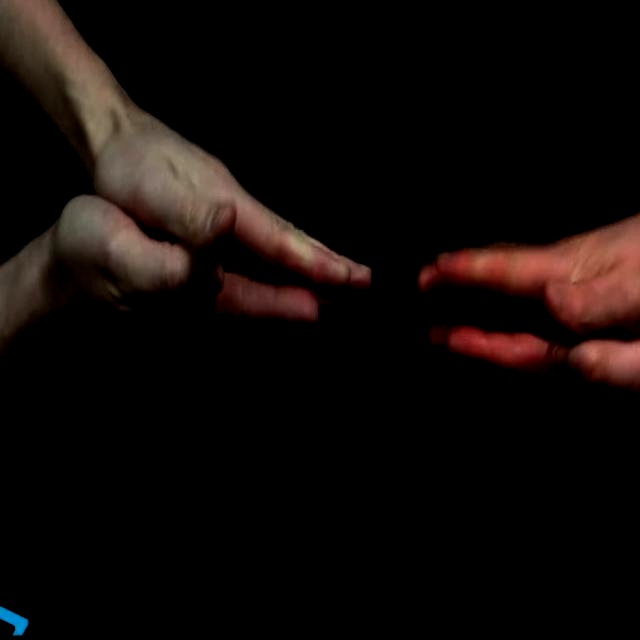Paper: (92, 112, 372, 300), (416, 192, 640, 340)
